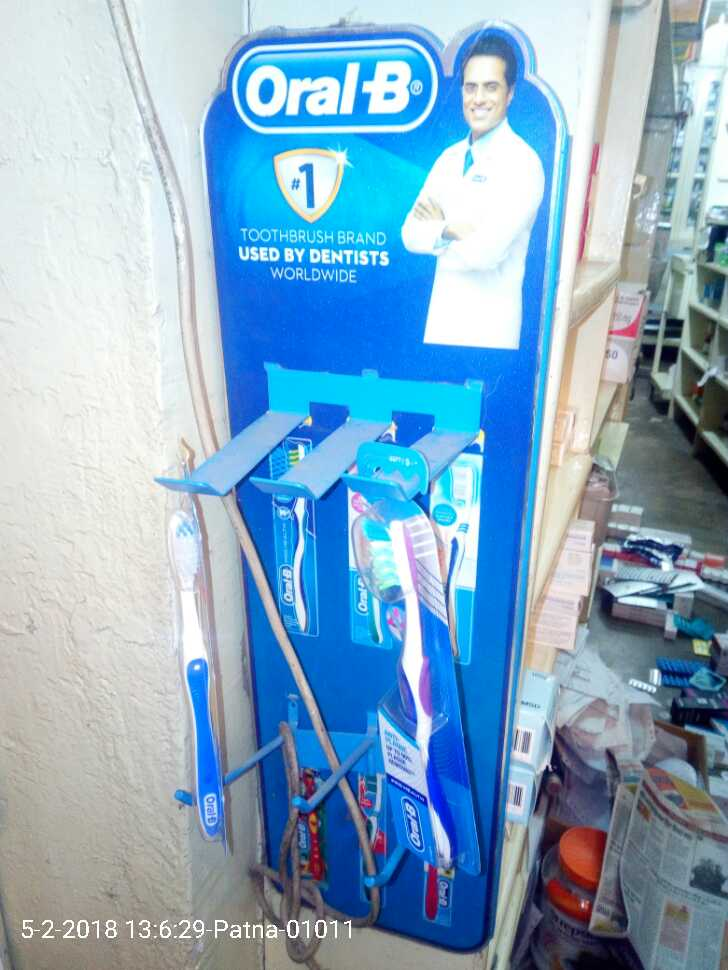oralb: (343, 513, 456, 868), (150, 497, 250, 853)
